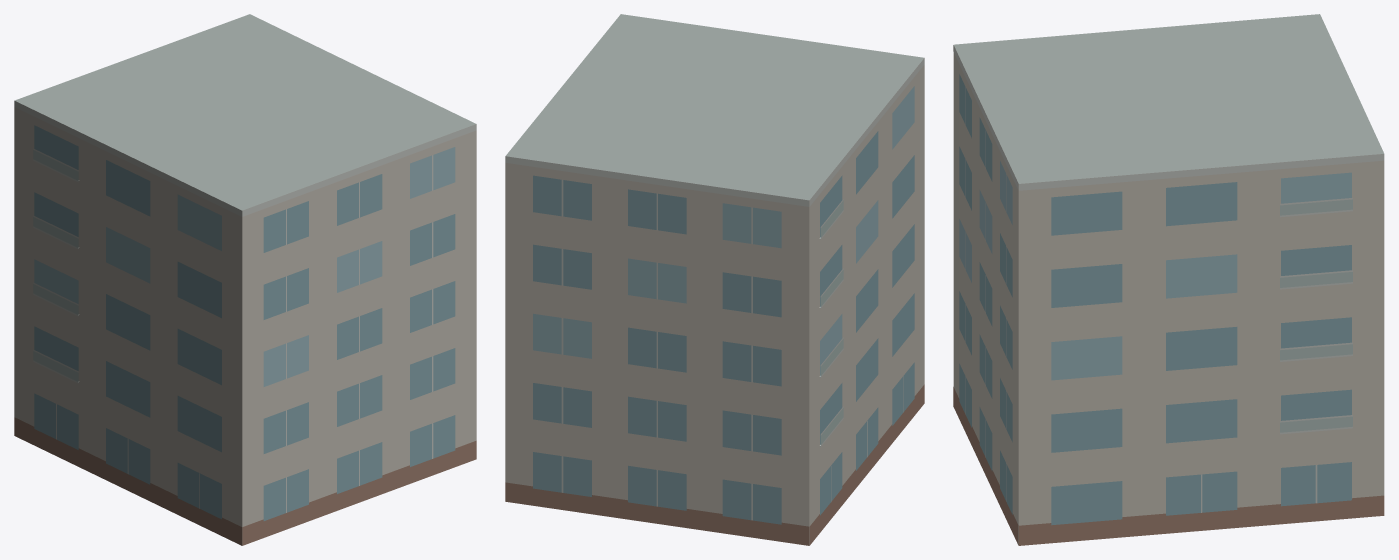
The model's file is survey-upis-32740406.glb.
The picture shows the model from 3 angles, left to right: view 1: azimuth 30°, elevation 25°; view 2: azimuth 150°, elevation 25°; view 3: azimuth 270°, elevation 25°; orthographic projection. The views are drawn at different scales.
Parts seen in each view (by area): view 1: survey-upis-32740406.tmp; view 2: survey-upis-32740406.tmp; view 3: survey-upis-32740406.tmp.
Boxes of the visible parts, x1,y1,x2,y2 form: survey-upis-32740406.tmp: (14, 14, 476, 545); survey-upis-32740406.tmp: (505, 14, 924, 545); survey-upis-32740406.tmp: (953, 14, 1384, 545).
Bounding box in the file's own units: 13 × 12.9 × 13.93.
